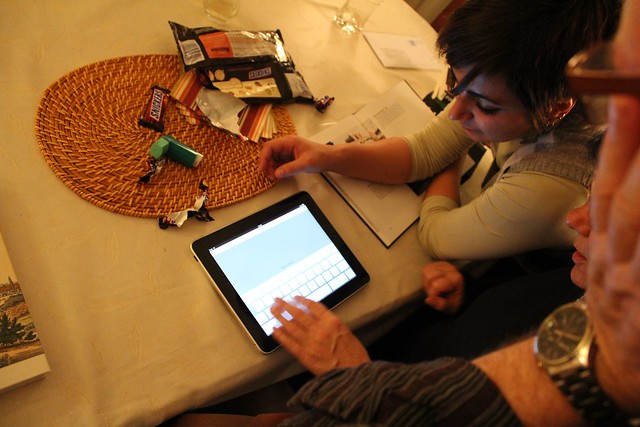Desk: (5, 1, 508, 424)
Human arm: (417, 152, 590, 262), (255, 97, 476, 183)
Screen: (187, 187, 372, 357)
Watch: (529, 299, 624, 423)
Woman: (272, 5, 597, 265)
